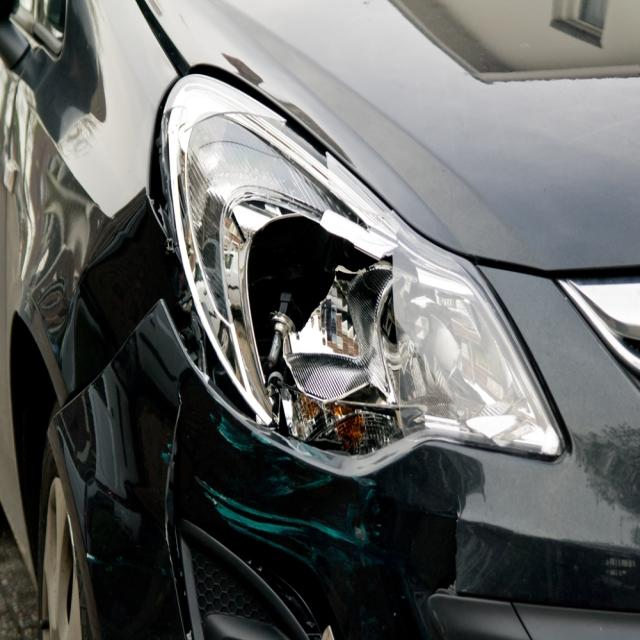dent: (75, 196, 163, 392)
lamp broken: (164, 72, 570, 464)
scratch: (194, 402, 393, 586)
